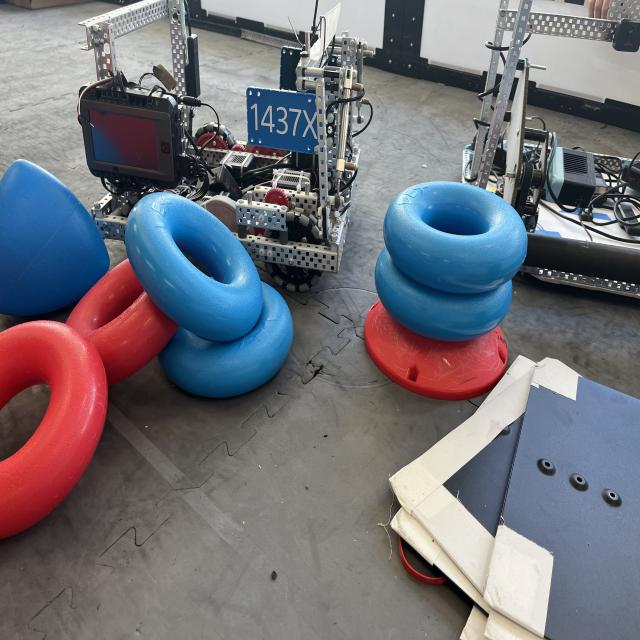Blue-Ring: (125, 192, 262, 342), (384, 182, 528, 293), (158, 283, 292, 398), (375, 247, 512, 342)
Red-Ring: (0, 322, 108, 538), (66, 260, 179, 385)
